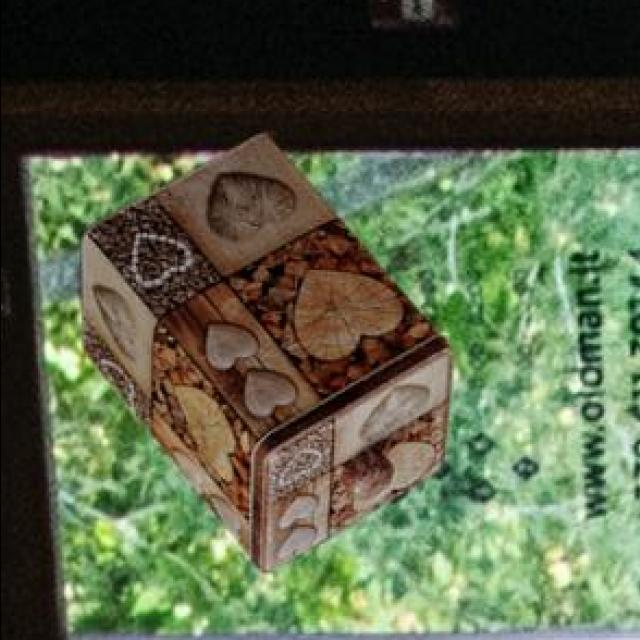logam: (77, 130, 450, 569)
